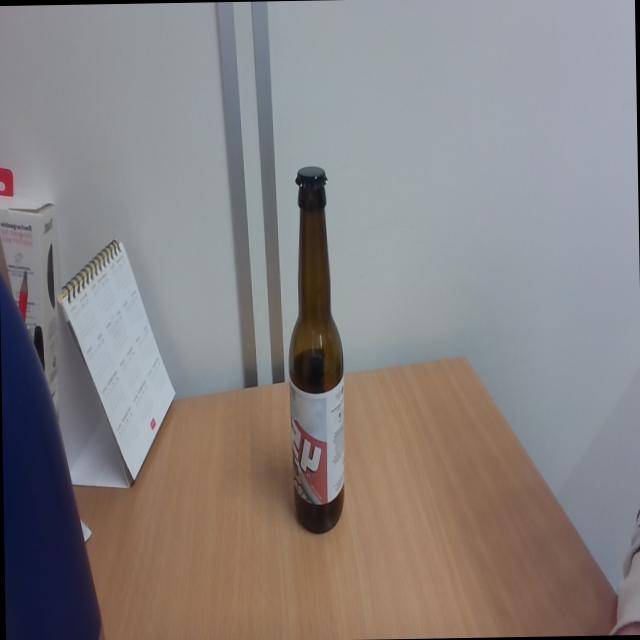Bottle: (282, 160, 348, 536)
Cap: (292, 162, 328, 192)
Label: (288, 382, 348, 502)
